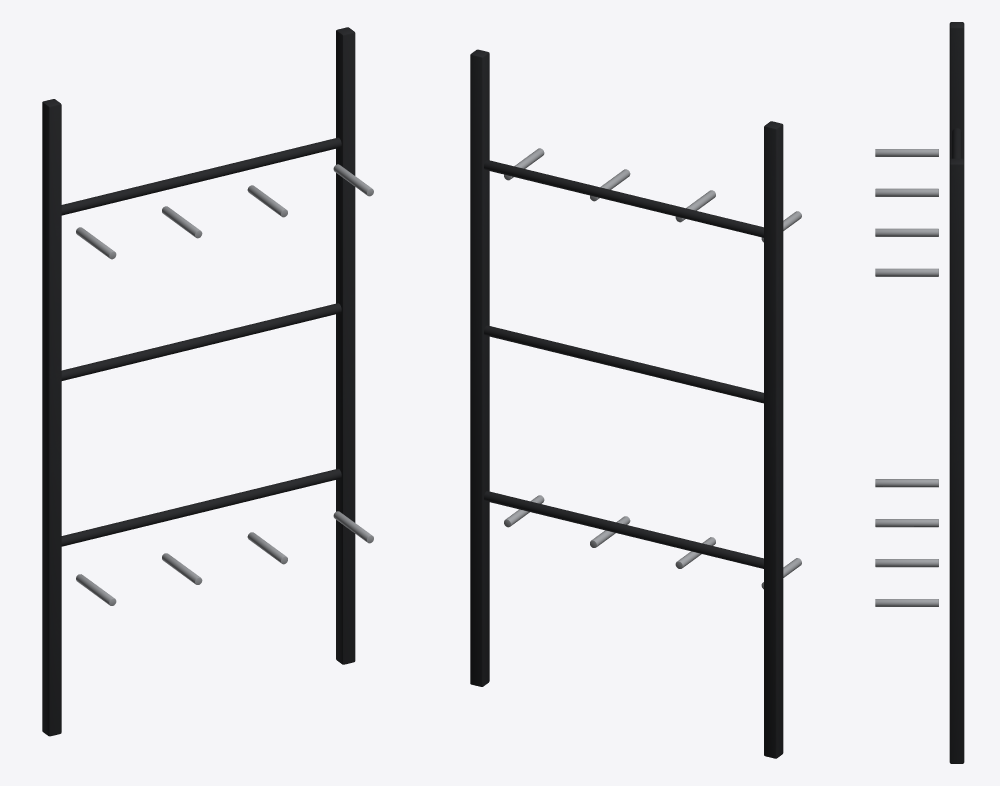
File: pf_display_hat_wall_t1.glb
3 views of the same model, side by side, from view 1: azimuth 30°, elevation 25°; view 2: azimuth 150°, elevation 25°; view 3: azimuth 270°, elevation 25° (orthographic). The views are drawn at different scales.
Visible parts, largest first — view 1: Upright_-0.39, Upright_+0.39, Mesh_Rail_1, Mesh_Rail_3, Mesh_Rail_2; view 2: Upright_-0.39, Upright_+0.39, Mesh_Rail_2, Mesh_Rail_3, Mesh_Rail_1; view 3: Upright_+0.39, Upright_-0.39, Hat_Peg_01, Hat_Peg_07, Hat_Peg_08, Hat_Peg_02, Hat_Peg_03, Hat_Peg_06, Hat_Peg_04, Hat_Peg_05, Mesh_Rail_3.
Boxes of the visible parts, x1=… form: Upright_-0.39: x1=42, y1=99, x2=61, y2=736; Upright_+0.39: x1=336, y1=27, x2=355, y2=664; Mesh_Rail_1: x1=61, y1=468, x2=341, y2=546; Mesh_Rail_3: x1=61, y1=137, x2=341, y2=215; Mesh_Rail_2: x1=61, y1=303, x2=341, y2=380; Upright_-0.39: x1=764, y1=121, x2=783, y2=758; Upright_+0.39: x1=470, y1=49, x2=489, y2=686; Mesh_Rail_2: x1=484, y1=325, x2=763, y2=403; Mesh_Rail_3: x1=484, y1=160, x2=763, y2=237; Mesh_Rail_1: x1=484, y1=491, x2=763, y2=568; Upright_+0.39: x1=949, y1=158, x2=964, y2=763; Upright_-0.39: x1=949, y1=22, x2=964, y2=159; Hat_Peg_01: x1=875, y1=479, x2=938, y2=487; Hat_Peg_07: x1=875, y1=228, x2=938, y2=236; Hat_Peg_08: x1=875, y1=268, x2=938, y2=276; Hat_Peg_02: x1=875, y1=519, x2=938, y2=527; Hat_Peg_03: x1=875, y1=559, x2=938, y2=567; Hat_Peg_06: x1=875, y1=188, x2=938, y2=196; Hat_Peg_04: x1=875, y1=599, x2=938, y2=606; Hat_Peg_05: x1=875, y1=149, x2=938, y2=156; Mesh_Rail_3: x1=952, y1=128, x2=961, y2=158.
Size of the model in its own units: 0.9 by 1.6 by 0.28.
3 materials, 1 textured.
